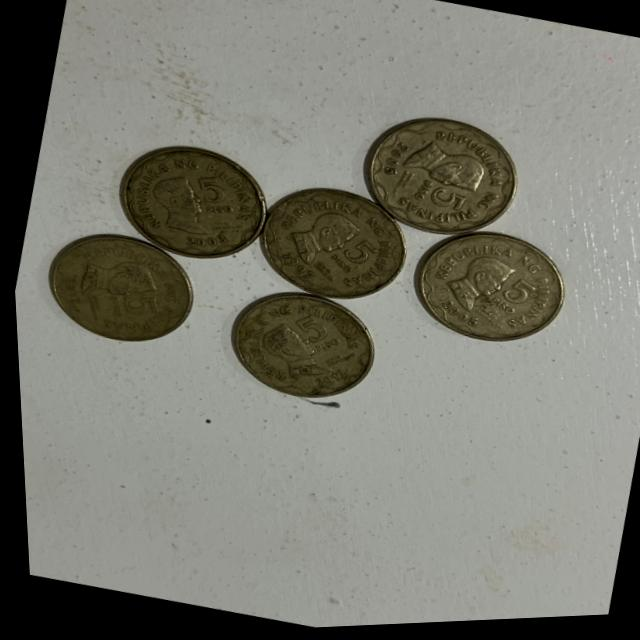5_Old_Front: (284, 295, 352, 365), (395, 169, 473, 224), (95, 273, 165, 332), (319, 229, 385, 290), (477, 276, 549, 329), (188, 164, 246, 219)
